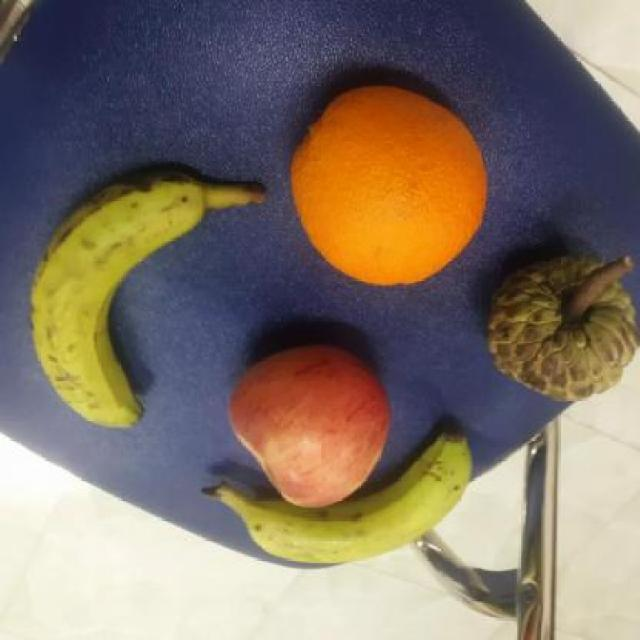apple: (221, 335, 395, 510)
banana: (26, 165, 206, 426)
oren: (291, 82, 488, 288)
sugar apple: (487, 252, 640, 406)
